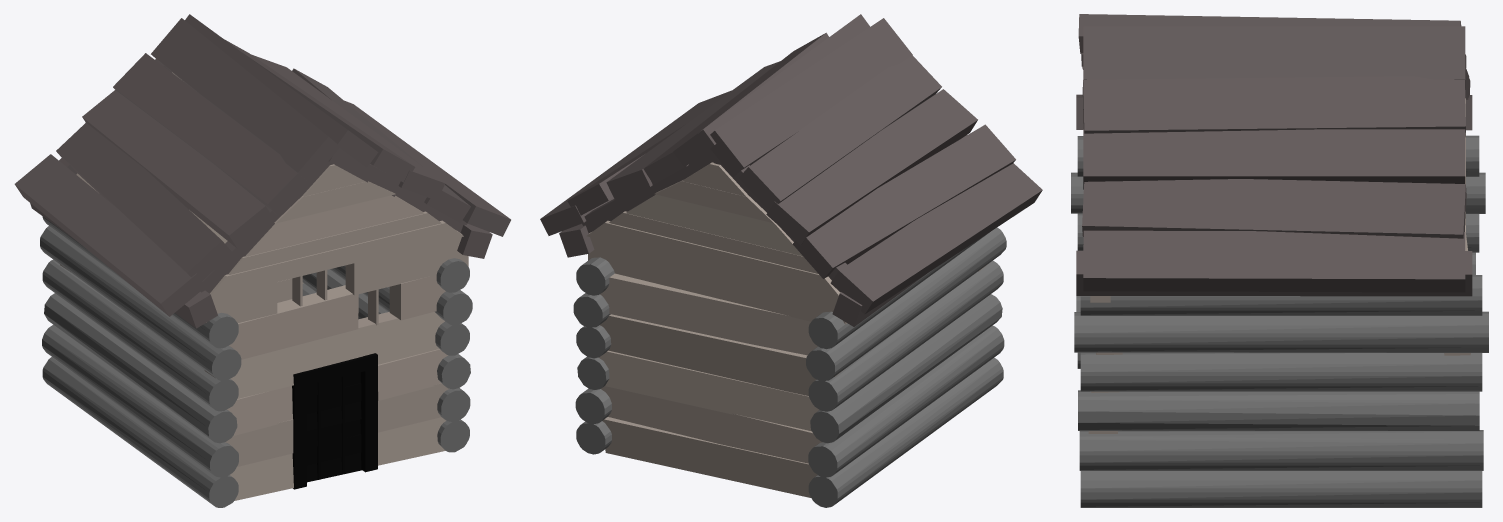
Rendered from Shack 1 2.0.fbx.
The picture shows the model from 3 angles, left to right: view 1: azimuth 30°, elevation 25°; view 2: azimuth 150°, elevation 25°; view 3: azimuth 270°, elevation 25°; orthographic projection. The views are drawn at different scales.
Parts seen in each view (by area): view 1: Roof, Planks, polySurface15, Door; view 2: Roof, Planks, polySurface15; view 3: Roof, polySurface15, Planks.
Boxes of the visible parts, x1=… form: Roof: x1=14, y1=14, x2=510, y2=328; Planks: x1=60, y1=72, x2=468, y2=500; polySurface15: x1=40, y1=216, x2=472, y2=507; Door: x1=292, y1=353, x2=377, y2=489; Roof: x1=540, y1=14, x2=1042, y2=326; Planks: x1=586, y1=162, x2=987, y2=497; polySurface15: x1=573, y1=227, x2=1006, y2=507; Roof: x1=1076, y1=14, x2=1472, y2=296; polySurface15: x1=1071, y1=135, x2=1488, y2=507; Planks: x1=1088, y1=98, x2=1470, y2=433.
Size of the model in its own units: 1052 by 1006 by 906.
